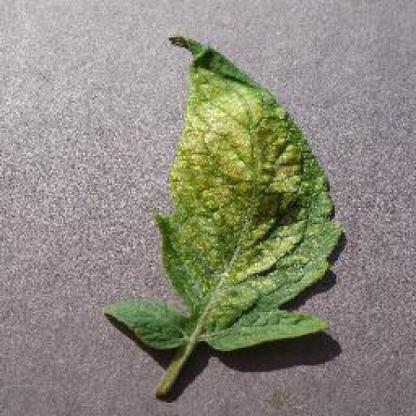Tomato_Spider_Mites: (107, 36, 339, 354)
